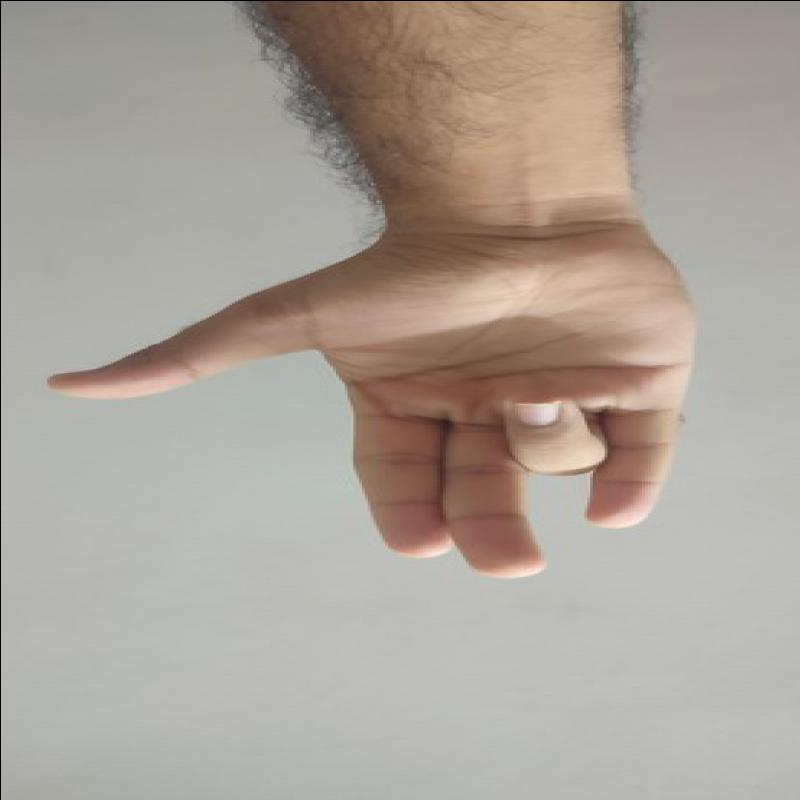Pathaaka: (31, 198, 753, 590)
